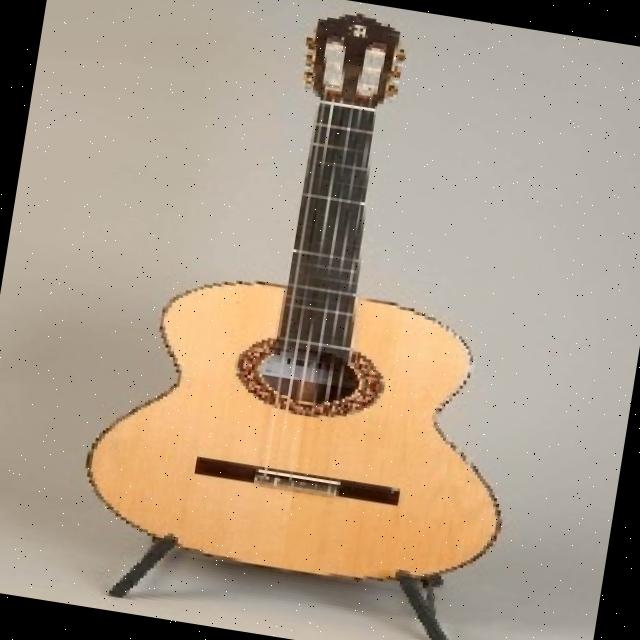guitar: (68, 0, 577, 607)
